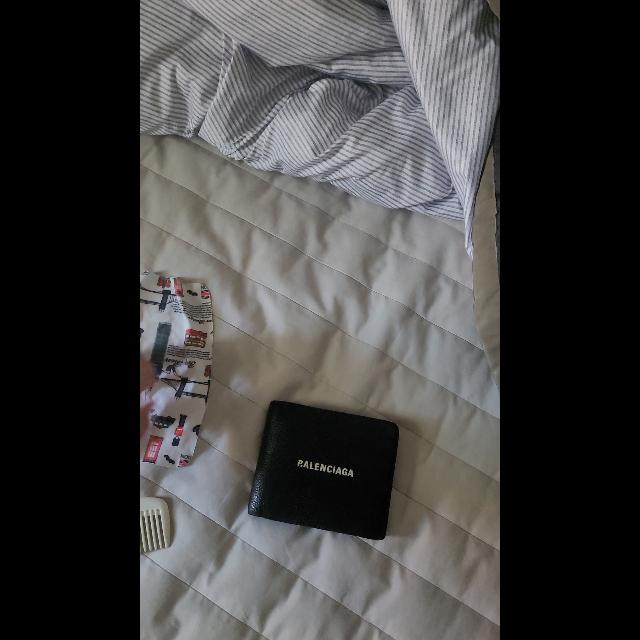COMB: (140, 496, 170, 552)
Glasses cleaning cloth: (140, 270, 213, 468)
WALLET: (248, 400, 399, 540)
